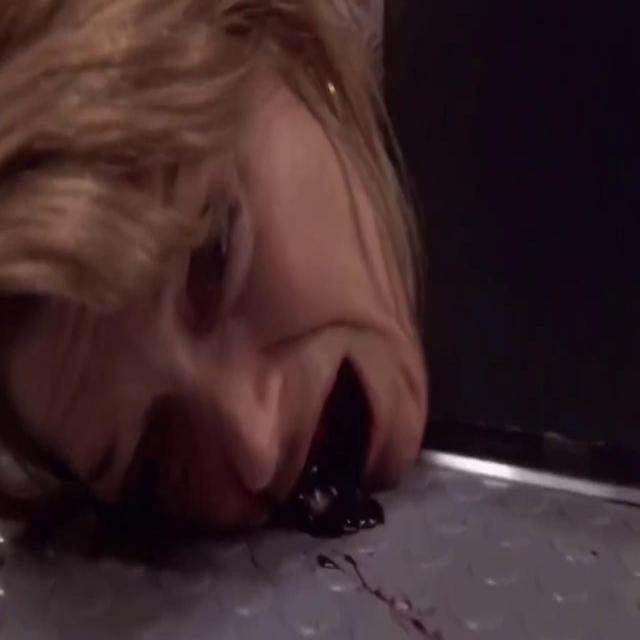flood: (295, 462, 387, 546)
